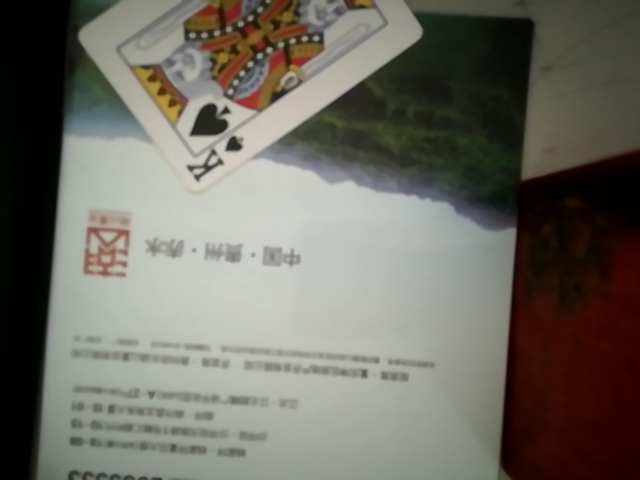ht k: (73, 0, 440, 182)
